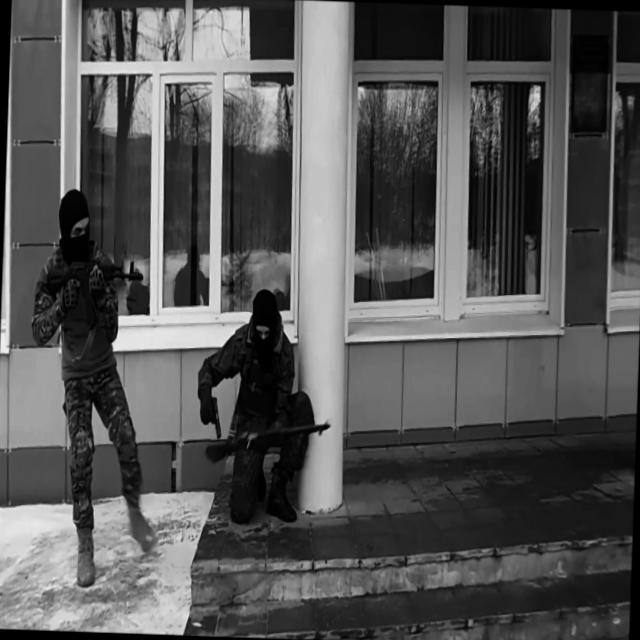gun: (45, 255, 146, 332), (205, 416, 331, 470), (196, 390, 223, 441)
person with a gun: (23, 185, 170, 590), (192, 284, 334, 529)
